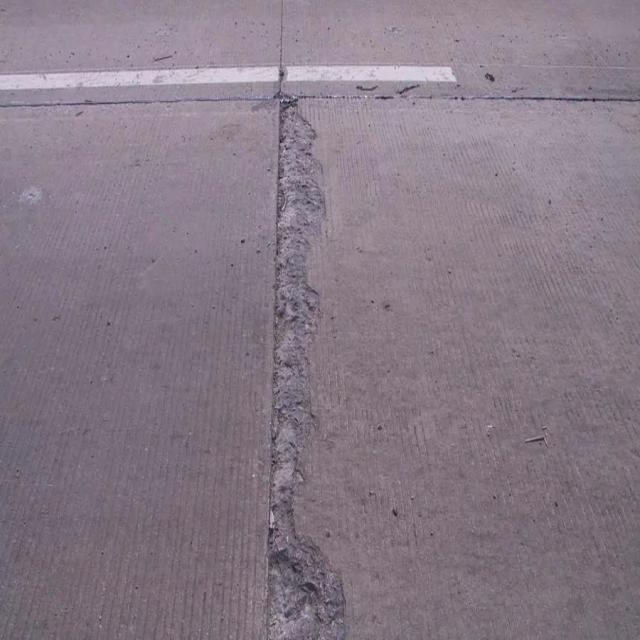Pothole: (256, 83, 367, 639)
